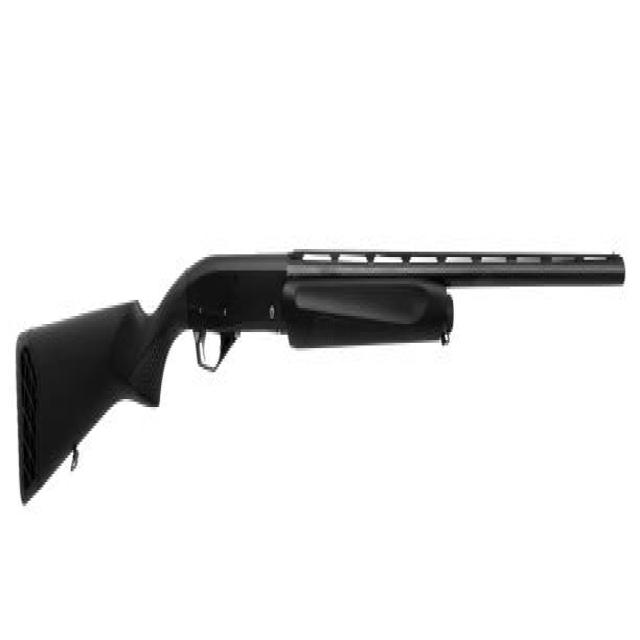rifle: (3, 219, 629, 521)
